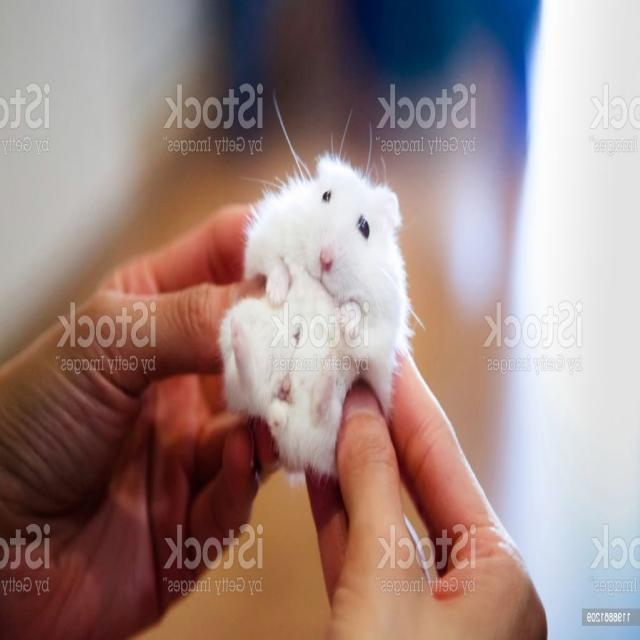hamster: (221, 155, 411, 477)
